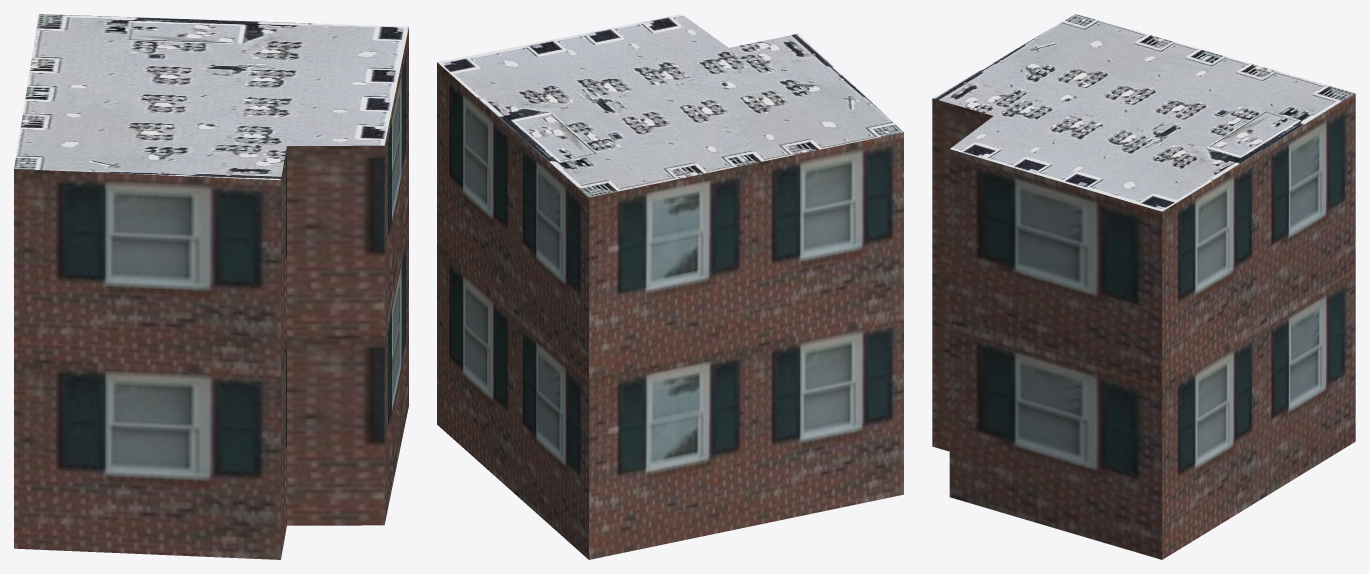
The model's file is ResTex__4113.fbx.
3 views of the same model, side by side, from view 1: azimuth 30°, elevation 25°; view 2: azimuth 150°, elevation 25°; view 3: azimuth 270°, elevation 25° (orthographic). The views are drawn at different scales.
Visible parts, largest first — view 1: CityEngineMaterial_14_m, CityEngineMaterial_8_m; view 2: CityEngineMaterial_14_m, CityEngineMaterial_8_m; view 3: CityEngineMaterial_14_m, CityEngineMaterial_8_m.
Part boxes in pixels (x1,y1,x2,y2): CityEngineMaterial_14_m: [14, 27, 408, 559]; CityEngineMaterial_8_m: [14, 14, 408, 180]; CityEngineMaterial_14_m: [437, 62, 903, 559]; CityEngineMaterial_8_m: [437, 14, 903, 197]; CityEngineMaterial_14_m: [932, 93, 1355, 559]; CityEngineMaterial_8_m: [932, 14, 1355, 211].
Size of the model in its own units: 7.31 by 6 by 6.61.
2 materials, 2 textured.
